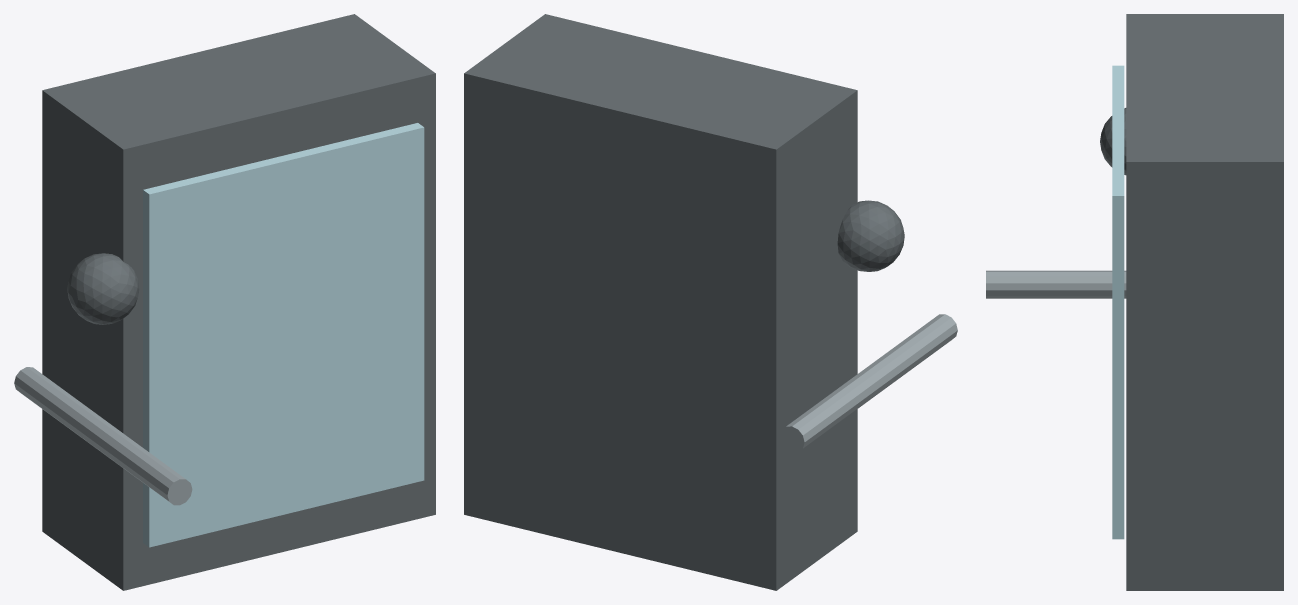
File: karaoke_machine.glb
The picture shows the model from 3 angles, left to right: view 1: azimuth 30°, elevation 25°; view 2: azimuth 150°, elevation 25°; view 3: azimuth 270°, elevation 25°; orthographic projection. The views are drawn at different scales.
Visible parts, largest first — view 1: part_01, part_00, part_02, part_03; view 2: part_00, part_02, part_03; view 3: part_00, part_01, part_02, part_03.
Part boxes in pixels (x1,y1,x2,y2): part_01: (143, 123, 424, 547); part_00: (42, 14, 435, 590); part_02: (14, 367, 192, 505); part_03: (67, 253, 139, 324); part_00: (464, 14, 857, 590); part_02: (779, 314, 957, 452); part_03: (837, 200, 904, 271); part_00: (1126, 14, 1283, 590); part_01: (1112, 65, 1124, 539); part_02: (986, 270, 1126, 298); part_03: (1100, 108, 1126, 175).
Bounding box in the file's own units: 1.15 × 1.35 × 0.85.
